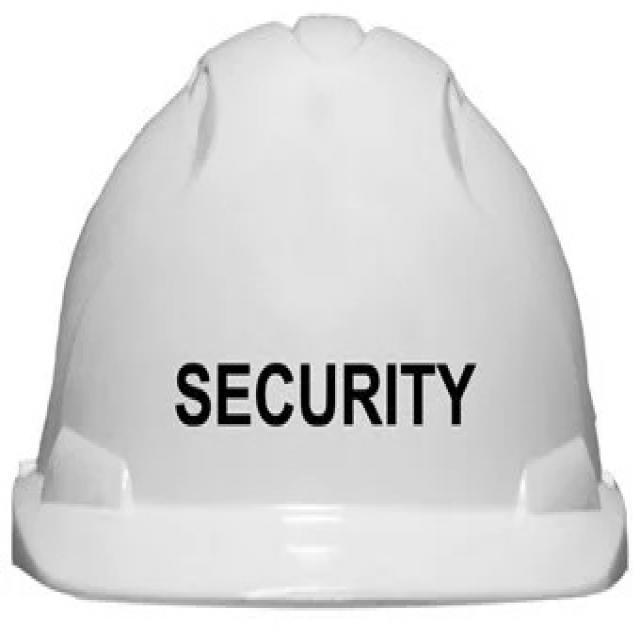safety_helmet: (13, 16, 629, 608)
